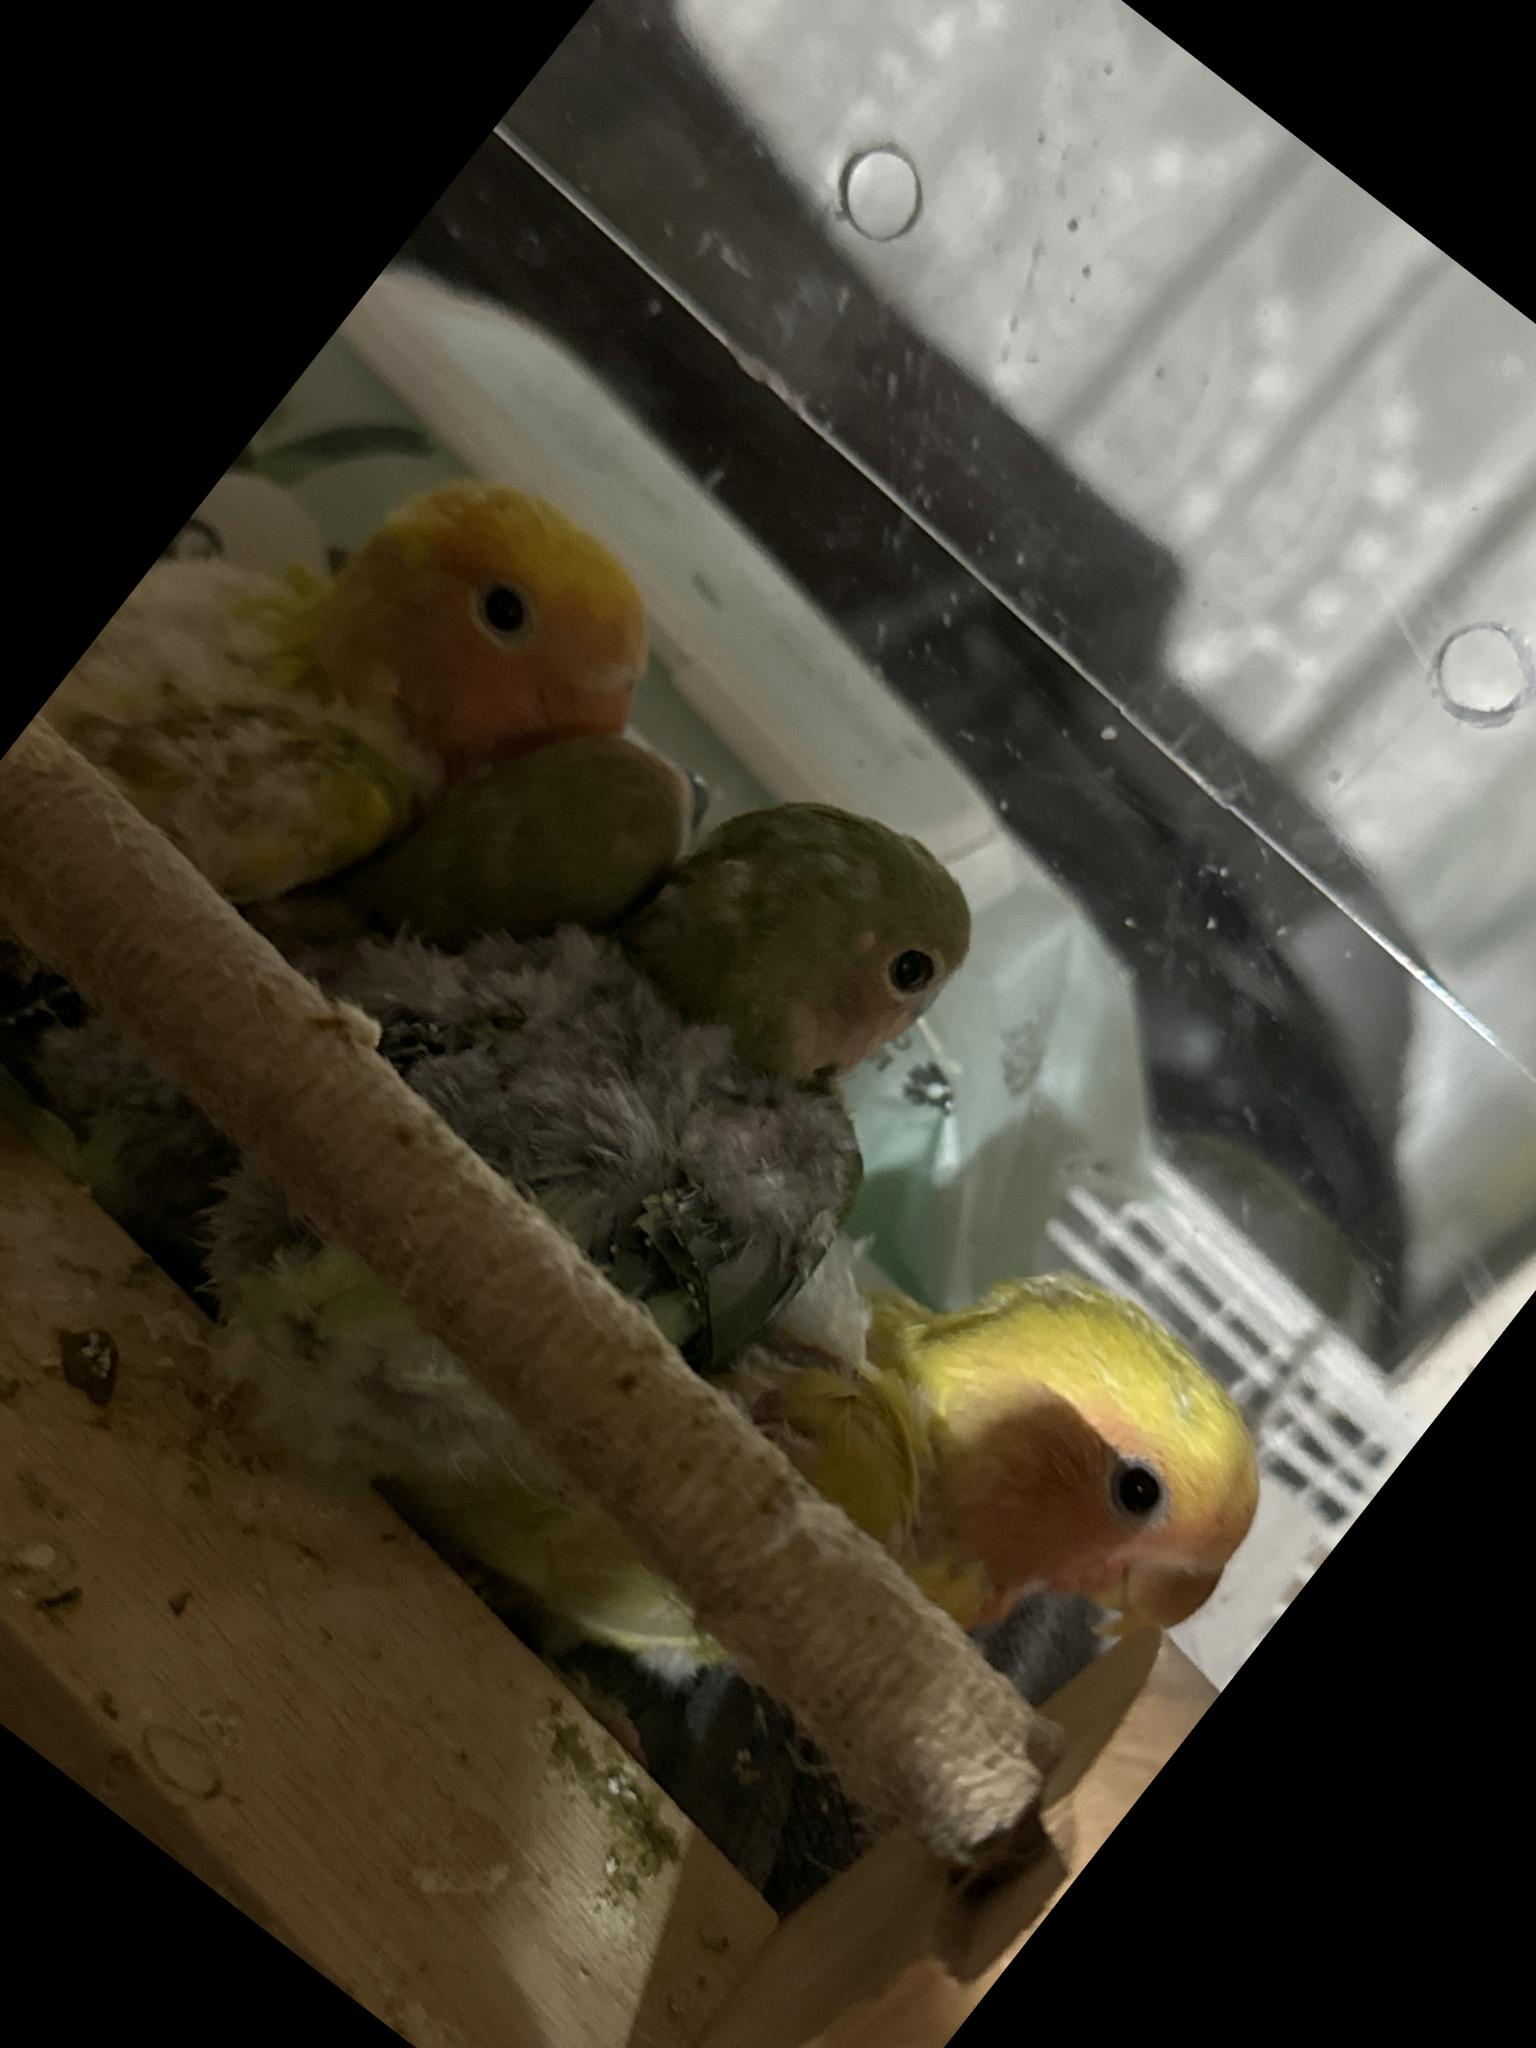bird: (0, 310, 723, 1209), (352, 685, 1070, 1435), (686, 1124, 1371, 1788), (392, 648, 762, 1039)
